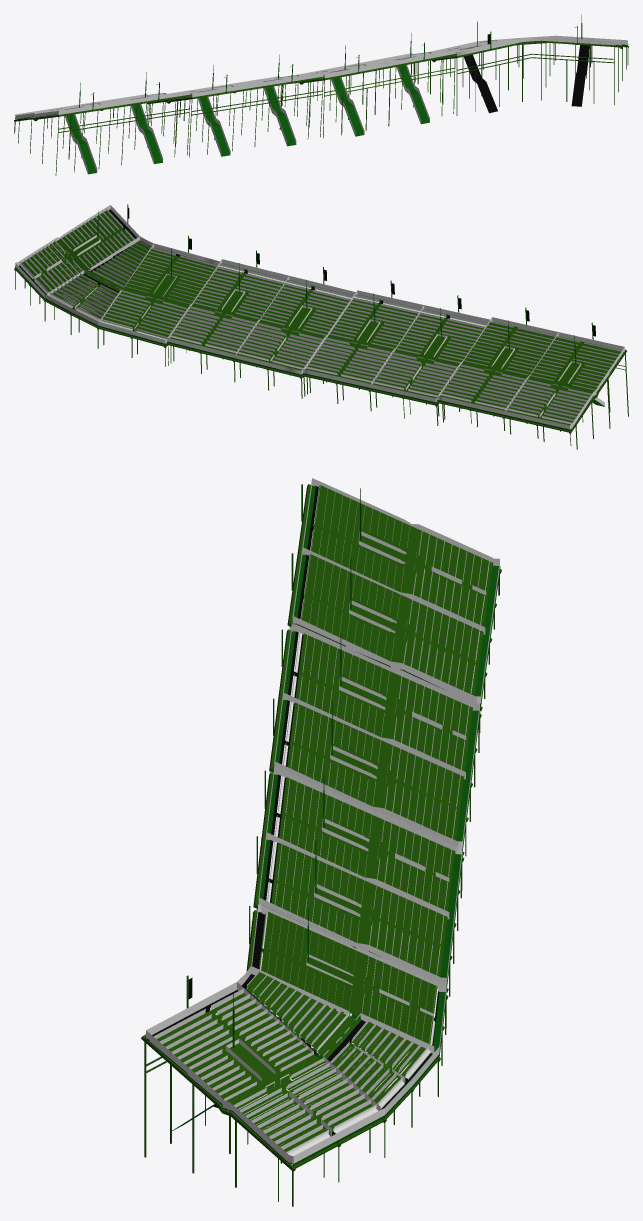
File: T2_GrandStand01.fbx
3 renders of one model, top to bottom at view 1: azimuth 30°, elevation 25°; view 2: azimuth 150°, elevation 25°; view 3: azimuth 270°, elevation 25°, orthographic. The views are drawn at different scales.
Visible parts, largest first — view 1: T2_GrandStand01_Base1B, T2_GrandStand01_Base4B, T2_GrandStand01_Base2B, T2_GrandStand01_Base3B, T2_GrandStand01_Base4_Fence_alpha, T2_GrandStand01_Base2_Fence_alpha, T2_GrandStand01_Base3_Fence_alpha, T2_GrandStand01_Base1, T2_GrandStand01_Base4, T2_GrandStand01_Base3, T2_GrandStand01_Base2, T2_GrandStand01_Base1_Fence_alpha (+3 smaller); view 2: T2_GrandStand01_Base1_Audience_Far, T2_GrandStand01_Base1_Chairs_Far, T2_GrandStand01_Base2_Audience_alpha, T2_GrandStand01_Base3_Audience_alpha, T2_GrandStand01_Base1_Audience_alpha, T2_GrandStand01_Base4_Audience_alpha, T2_GrandStand01_Base1_Fence_alpha, T2_GrandStand01_Base4_Fence_alpha, T2_GrandStand01_Base2_Fence_alpha, T2_GrandStand01_Base3_Fence_alpha, T2_GrandStand01_Base1_Chairs_alpha_Shadowonly, T2_GrandStand01_Base4B (+7 smaller); view 3: T2_GrandStand01_Base1_Audience_Far, T2_GrandStand01_Base1_Chairs_Far, T2_GrandStand01_Base1_Audience_alpha, T2_GrandStand01_Base1_Fence_alpha, T2_GrandStand01_Base2_Fence_alpha, T2_GrandStand01_Base4_Fence_alpha, T2_GrandStand01_Base3_Fence_alpha, T2_GrandStand01_Base1_Chairs_alpha_Shadowonly, T2_GrandStand01_Base1B, T2_GrandStand01_Base1, T2_GrandStand01_Base3_Audience_alpha, T2_GrandStand01_Base4_Audience_alpha (+8 smaller).
Boxes of the visible parts, bbox=[...] form: T2_GrandStand01_Base1B: bbox=[413, 25, 628, 115]; T2_GrandStand01_Base4B: bbox=[14, 94, 191, 175]; T2_GrandStand01_Base2B: bbox=[280, 54, 456, 138]; T2_GrandStand01_Base3B: bbox=[147, 76, 324, 157]; T2_GrandStand01_Base4_Fence_alpha: bbox=[15, 90, 190, 173]; T2_GrandStand01_Base2_Fence_alpha: bbox=[295, 50, 455, 135]; T2_GrandStand01_Base3_Fence_alpha: bbox=[168, 72, 323, 155]; T2_GrandStand01_Base1: bbox=[446, 14, 628, 113]; T2_GrandStand01_Base4: bbox=[15, 72, 190, 174]; T2_GrandStand01_Base3: bbox=[168, 54, 323, 156]; T2_GrandStand01_Base2: bbox=[324, 33, 454, 136]; T2_GrandStand01_Base1_Fence_alpha: bbox=[428, 35, 627, 56]; T2_GrandStand01_Base1_Audience_Far: bbox=[22, 210, 620, 425]; T2_GrandStand01_Base1_Chairs_Far: bbox=[35, 211, 579, 397]; T2_GrandStand01_Base2_Audience_alpha: bbox=[170, 263, 352, 369]; T2_GrandStand01_Base3_Audience_alpha: bbox=[306, 294, 487, 396]; T2_GrandStand01_Base1_Audience_alpha: bbox=[19, 208, 217, 338]; T2_GrandStand01_Base4_Audience_alpha: bbox=[440, 321, 621, 424]; T2_GrandStand01_Base1_Fence_alpha: bbox=[15, 205, 220, 343]; T2_GrandStand01_Base4_Fence_alpha: bbox=[437, 317, 624, 429]; T2_GrandStand01_Base2_Fence_alpha: bbox=[167, 259, 355, 374]; T2_GrandStand01_Base3_Fence_alpha: bbox=[303, 290, 489, 402]; T2_GrandStand01_Base1_Chairs_alpha_Shadowonly: bbox=[27, 217, 129, 310]; T2_GrandStand01_Base4B: bbox=[436, 349, 628, 449]; T2_GrandStand01_Base1_Audience_Far: bbox=[156, 485, 493, 1151]; T2_GrandStand01_Base1_Chairs_Far: bbox=[157, 535, 472, 1133]; T2_GrandStand01_Base1_Audience_alpha: bbox=[153, 911, 436, 1156]; T2_GrandStand01_Base1_Fence_alpha: bbox=[146, 904, 446, 1163]; T2_GrandStand01_Base2_Fence_alpha: bbox=[251, 767, 462, 984]; T2_GrandStand01_Base4_Fence_alpha: bbox=[289, 478, 499, 703]; T2_GrandStand01_Base3_Fence_alpha: bbox=[260, 623, 479, 849]; T2_GrandStand01_Base1_Chairs_alpha_Shadowonly: bbox=[174, 913, 434, 1145]; T2_GrandStand01_Base1B: bbox=[141, 906, 448, 1206]; T2_GrandStand01_Base1: bbox=[145, 909, 446, 1165]; T2_GrandStand01_Base3_Audience_alpha: bbox=[283, 629, 469, 838]; T2_GrandStand01_Base4_Audience_alpha: bbox=[301, 484, 489, 693].
Bounding box in the file's own units: 80.49 × 13.71 × 22.11.
